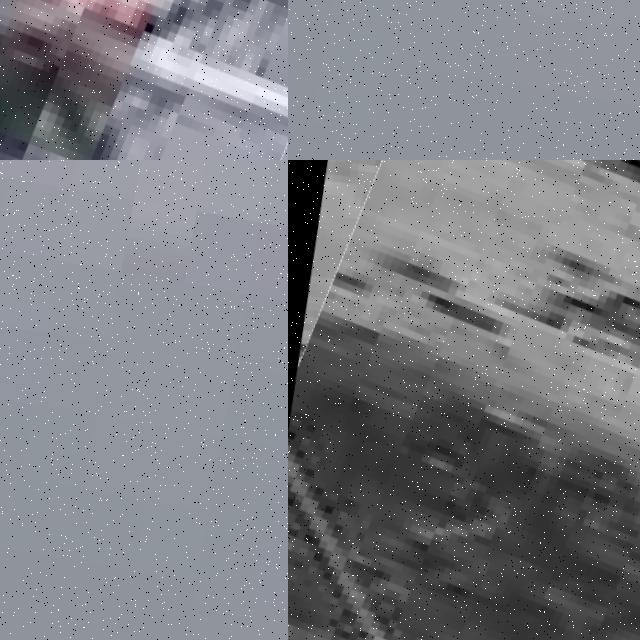0: (0, 0, 288, 160)
drone: (288, 160, 640, 640)
